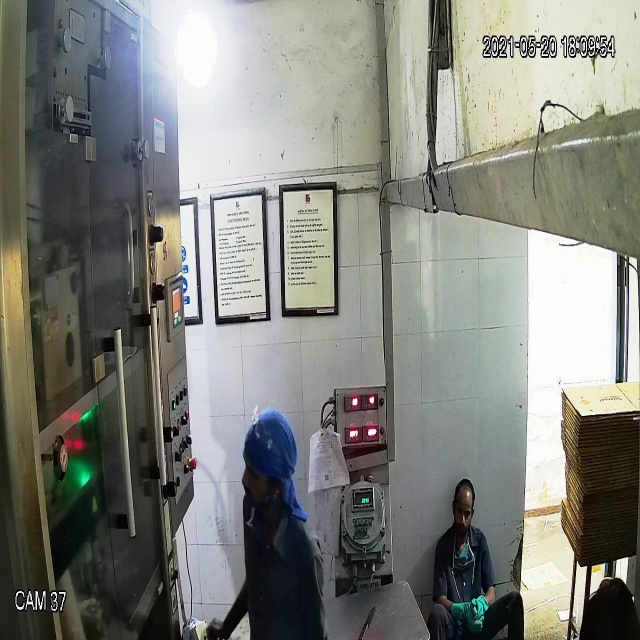Sin_gafas: (238, 453, 282, 491), (448, 498, 479, 523)
